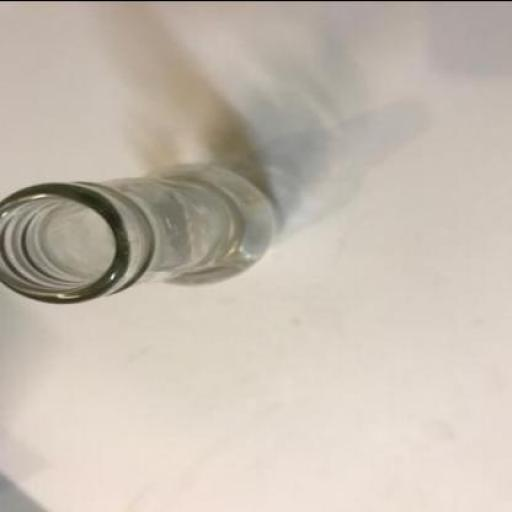glass: (1, 165, 276, 305)
